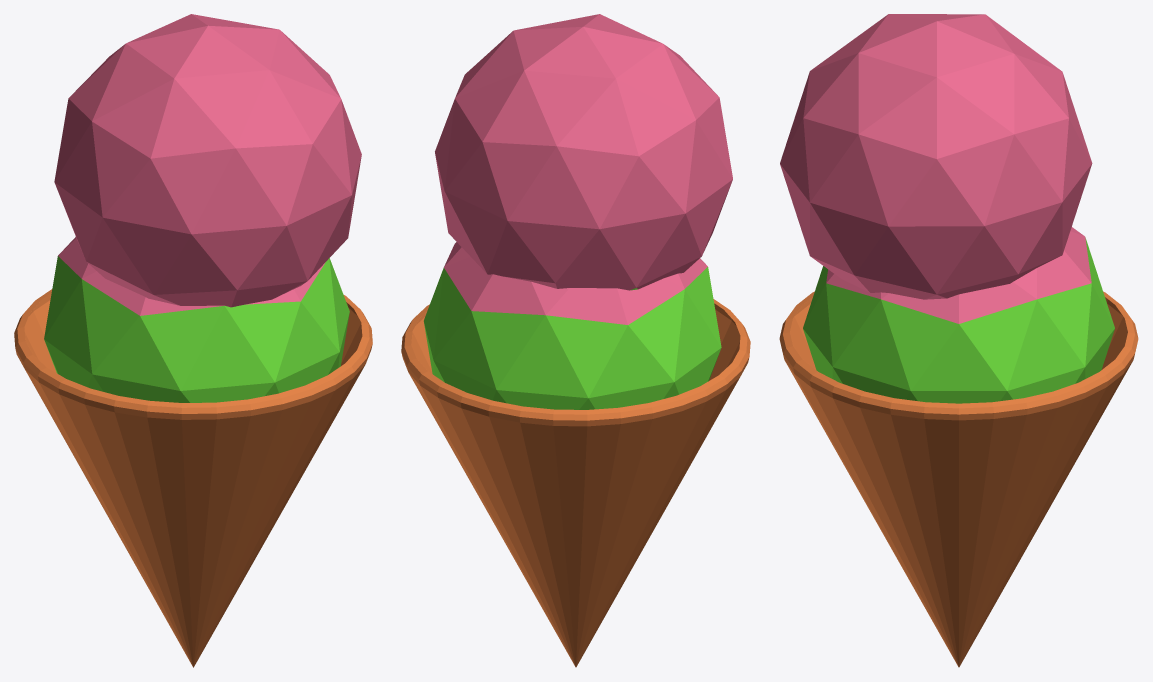
The model's file is Helado_cono.fbx.
The picture shows the model from 3 angles, left to right: view 1: azimuth 30°, elevation 25°; view 2: azimuth 150°, elevation 25°; view 3: azimuth 270°, elevation 25°; orthographic projection. The views are drawn at different scales.
Visible parts, largest first — view 1: Helado_en_cono; view 2: Helado_en_cono; view 3: Helado_en_cono.
Part boxes in pixels (<box>): Helado_en_cono: <box>14,14,372,667</box>; Helado_en_cono: <box>401,14,750,667</box>; Helado_en_cono: <box>779,14,1138,667</box>.
Bounding box in the file's own units: 7423 × 14794 × 7423.
